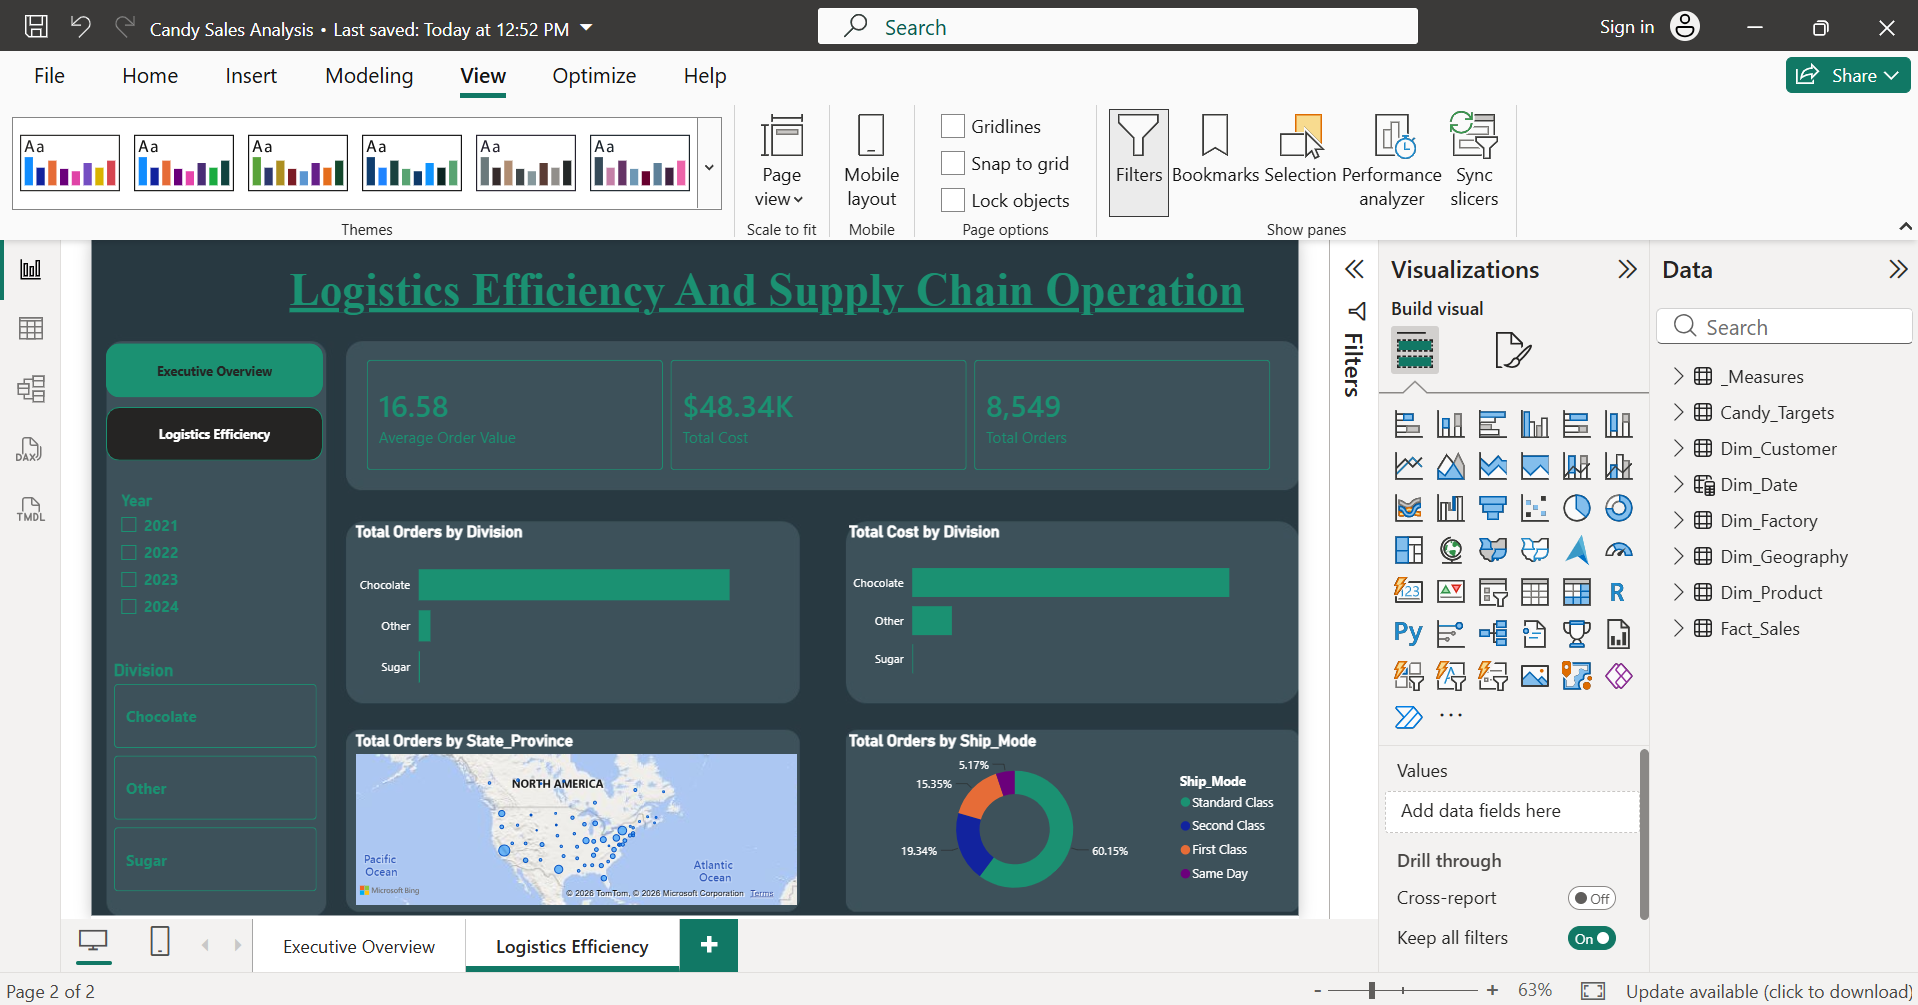

The dashboard page shown, as its layout file describes it:
{"tool":"powerbi","page":{"name":"Logistics Efficiency","canvas":[1280,720],"ordinal":1},"visuals":[{"type":"cardVisual","fields":{"Data":["_Measures.Average Order Value","_Measures.Total Cost","_Measures.Total Orders"]},"box":[275.2,109.8,992.5,151.1],"z":0},{"type":"clusteredBarChart","fields":{"Y":["_Measures.Total Orders"],"Category":["Dim_Product.Division"]},"box":[275.2,299,478.8,194.1],"z":1000},{"type":"clusteredBarChart","fields":{"Y":["_Measures.Total Cost"],"Category":["Dim_Product.Division"]},"box":[798.5,299,469.2,182.9],"z":2000},{"type":"map","fields":{"Category":["Dim_Customer.State_Province"],"Size":["_Measures.Total Orders"]},"box":[275.2,520.1,478.8,189.3],"z":3000},{"type":"donutChart","fields":{"Category":["Fact_Sales.Ship_Mode"],"Y":["_Measures.Total Orders"]},"box":[798.5,520.1,469.2,189.3],"z":4000},{"type":"slicer","fields":{"Values":["Dim_Date.Year"]},"box":[19.1,260.9,225.9,170.2],"z":5000},{"type":"advancedSlicerVisual","fields":{"Values":["Candy_Targets.Division"]},"box":[19.1,445.4,225.9,252.9],"z":6000},{"type":"textbox","box":[176.6,20.7,1080,71.6],"z":7000},{"type":"pageNavigator","box":[15.9,109.8,230.6,125.7],"z":8000}]}

Visuals, with their boxes on the page's 1280x720 design canvas (x1, y1, x2, y2). These are canvas units, not pixel positions in the 1918x1005 screenshot, which may show the page scaled, cropped or inside an application window:
cardVisual - _Measures.Average Order Value x _Measures.Total Cost: [x1=275, y1=110, x2=1268, y2=261]
clusteredBarChart - _Measures.Total Orders x Dim_Product.Division: [x1=275, y1=299, x2=754, y2=493]
clusteredBarChart - _Measures.Total Cost x Dim_Product.Division: [x1=798, y1=299, x2=1268, y2=482]
map - Dim_Customer.State_Province x _Measures.Total Orders: [x1=275, y1=520, x2=754, y2=709]
donutChart - Fact_Sales.Ship_Mode x _Measures.Total Orders: [x1=798, y1=520, x2=1268, y2=709]
slicer - Dim_Date.Year: [x1=19, y1=261, x2=245, y2=431]
advancedSlicerVisual - Candy_Targets.Division: [x1=19, y1=445, x2=245, y2=698]
textbox: [x1=177, y1=21, x2=1257, y2=92]
pageNavigator: [x1=16, y1=110, x2=246, y2=236]
